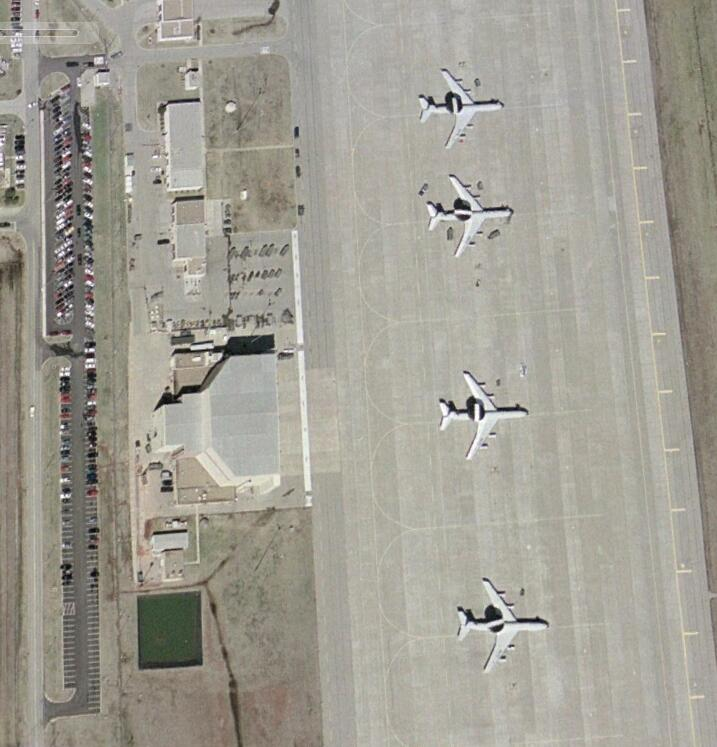A7: (457, 578, 552, 673), (436, 371, 529, 460), (427, 175, 514, 258), (418, 69, 504, 147)
